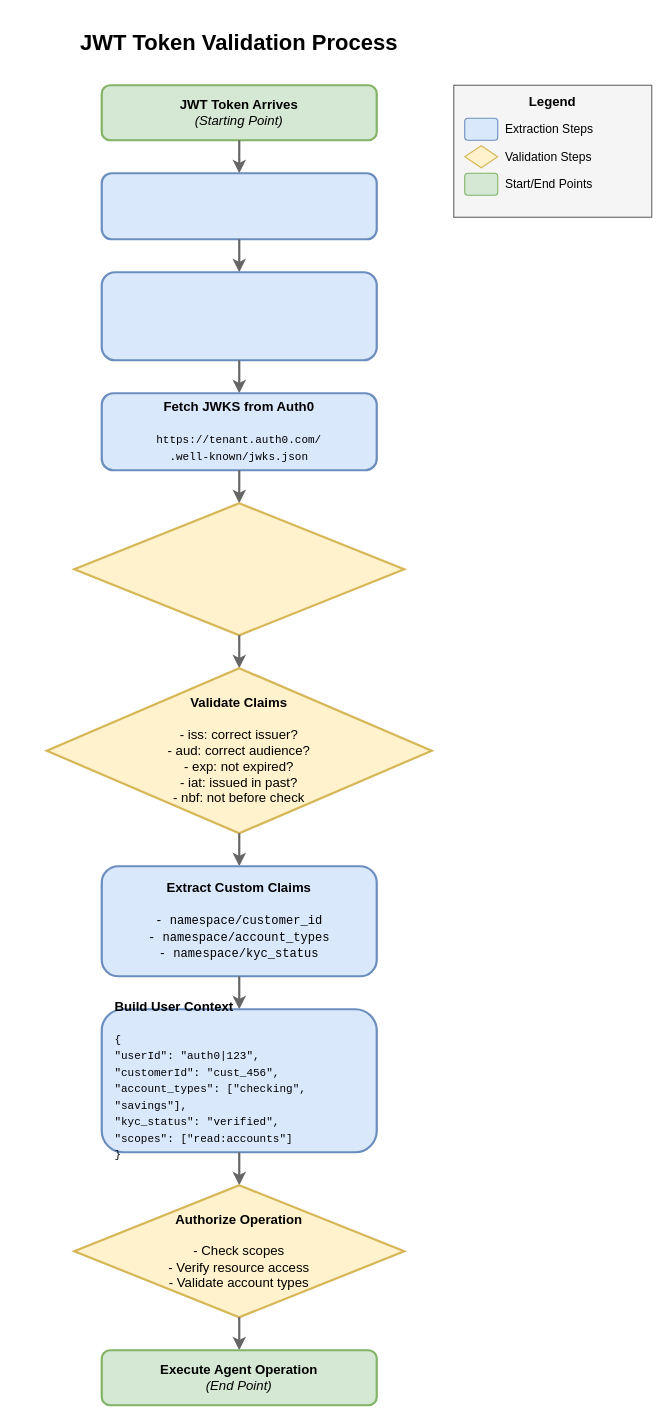
Some shapes in this 671 by 1425 pixel diagram are drawn without their labels. The shapes that lost their labels are listed below. From the top down, each one's centre as x and y in pixels, then its label:
At (x=238, y=206): "Extract from Authorization Header Bearer <token>".
At (x=238, y=316): "Parse JWT Structure - Header - Payload - Signature".
At (x=239, y=569): "Verify Signature - Get public key from JWKS - Verify RS256 signature".
